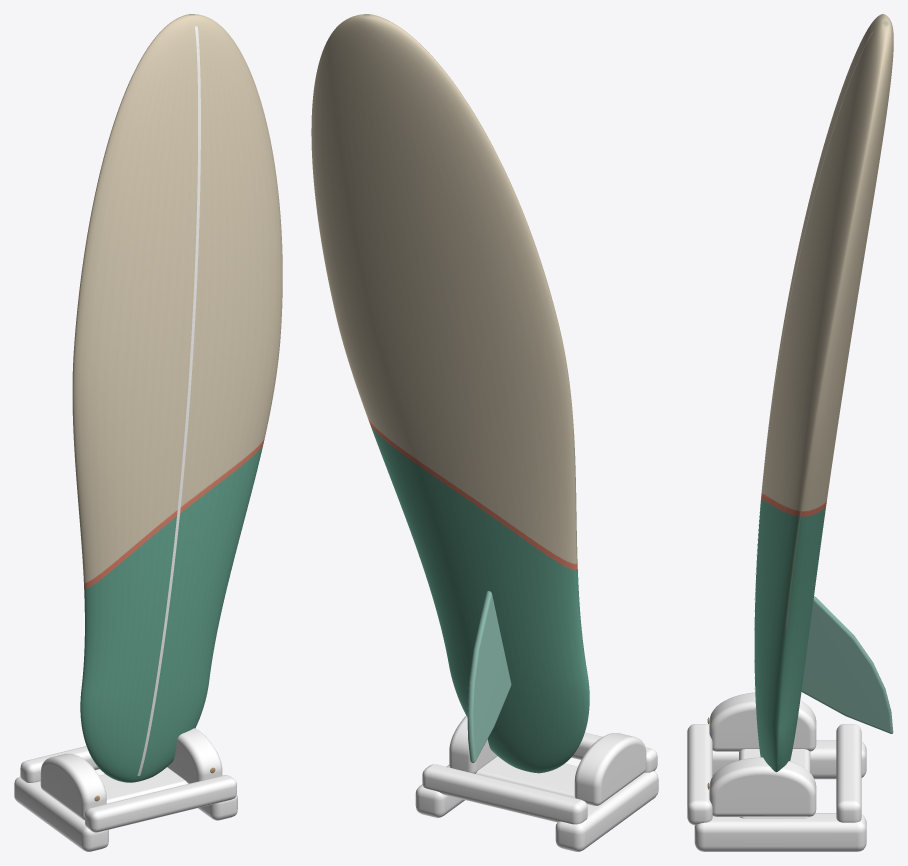
Rendered from surfboard-v7.glb.
The picture shows the model from 3 angles, left to right: view 1: azimuth 30°, elevation 25°; view 2: azimuth 150°, elevation 25°; view 3: azimuth 270°, elevation 25°; orthographic projection. The views are drawn at different scales.
Visible parts, largest first — view 1: Surfboard | shaped core and rails, Stand | front cradle, Stand | left cheek, Stand | left foot, Surfboard | timber stringer, Stand | right cheek, Stand | tail saddle, Stand | back cradle, Stand | right foot; view 2: Surfboard | shaped core and rails, Stand | back cradle, Surfboard | swept rear fin, Stand | left cheek, Stand | left foot, Stand | tail saddle, Stand | right cheek, Stand | right foot; view 3: Surfboard | shaped core and rails, Surfboard | swept rear fin, Stand | right foot, Stand | right cheek, Stand | left cheek, Stand | back cradle, Stand | front cradle, Stand | left foot, Stand | tail saddle, Surfboard | timber stringer.
Boxes of the visible parts, box(x1,y1,x2,y2) form: Surfboard | shaped core and rails: box(72, 14, 282, 782); Stand | front cradle: box(85, 775, 236, 832); Stand | left cheek: box(40, 753, 106, 820); Stand | left foot: box(14, 776, 108, 851); Surfboard | timber stringer: box(137, 26, 200, 775); Stand | right cheek: box(167, 728, 222, 783); Stand | tail saddle: box(99, 767, 187, 803); Stand | back cradle: box(20, 746, 99, 782); Stand | right foot: box(198, 794, 237, 820); Surfboard | shaped core and rails: box(311, 14, 589, 773); Stand | back cradle: box(422, 764, 587, 824); Surfboard | swept rear fin: box(467, 591, 511, 762); Stand | left cheek: box(574, 733, 646, 805); Stand | left foot: box(555, 771, 658, 851); Stand | tail saddle: box(475, 756, 577, 797); Stand | right cheek: box(449, 715, 497, 773); Stand | right foot: box(415, 765, 464, 817); Surfboard | shaped core and rails: box(754, 14, 893, 772); Surfboard | swept rear fin: box(801, 596, 893, 733); Stand | right foot: box(694, 813, 866, 851); Stand | right cheek: box(709, 757, 816, 816); Stand | left cheek: box(709, 692, 816, 751); Stand | back cradle: box(836, 724, 861, 822); Stand | front cradle: box(687, 724, 712, 825); Stand | left foot: box(712, 740, 866, 779); Stand | tail saddle: box(739, 749, 810, 818); Surfboard | timber stringer: box(754, 31, 872, 743).
Size of the model in its own units: 0.5779 by 1.58 by 0.3481.
Materials: 4 (1 with a texture image).
